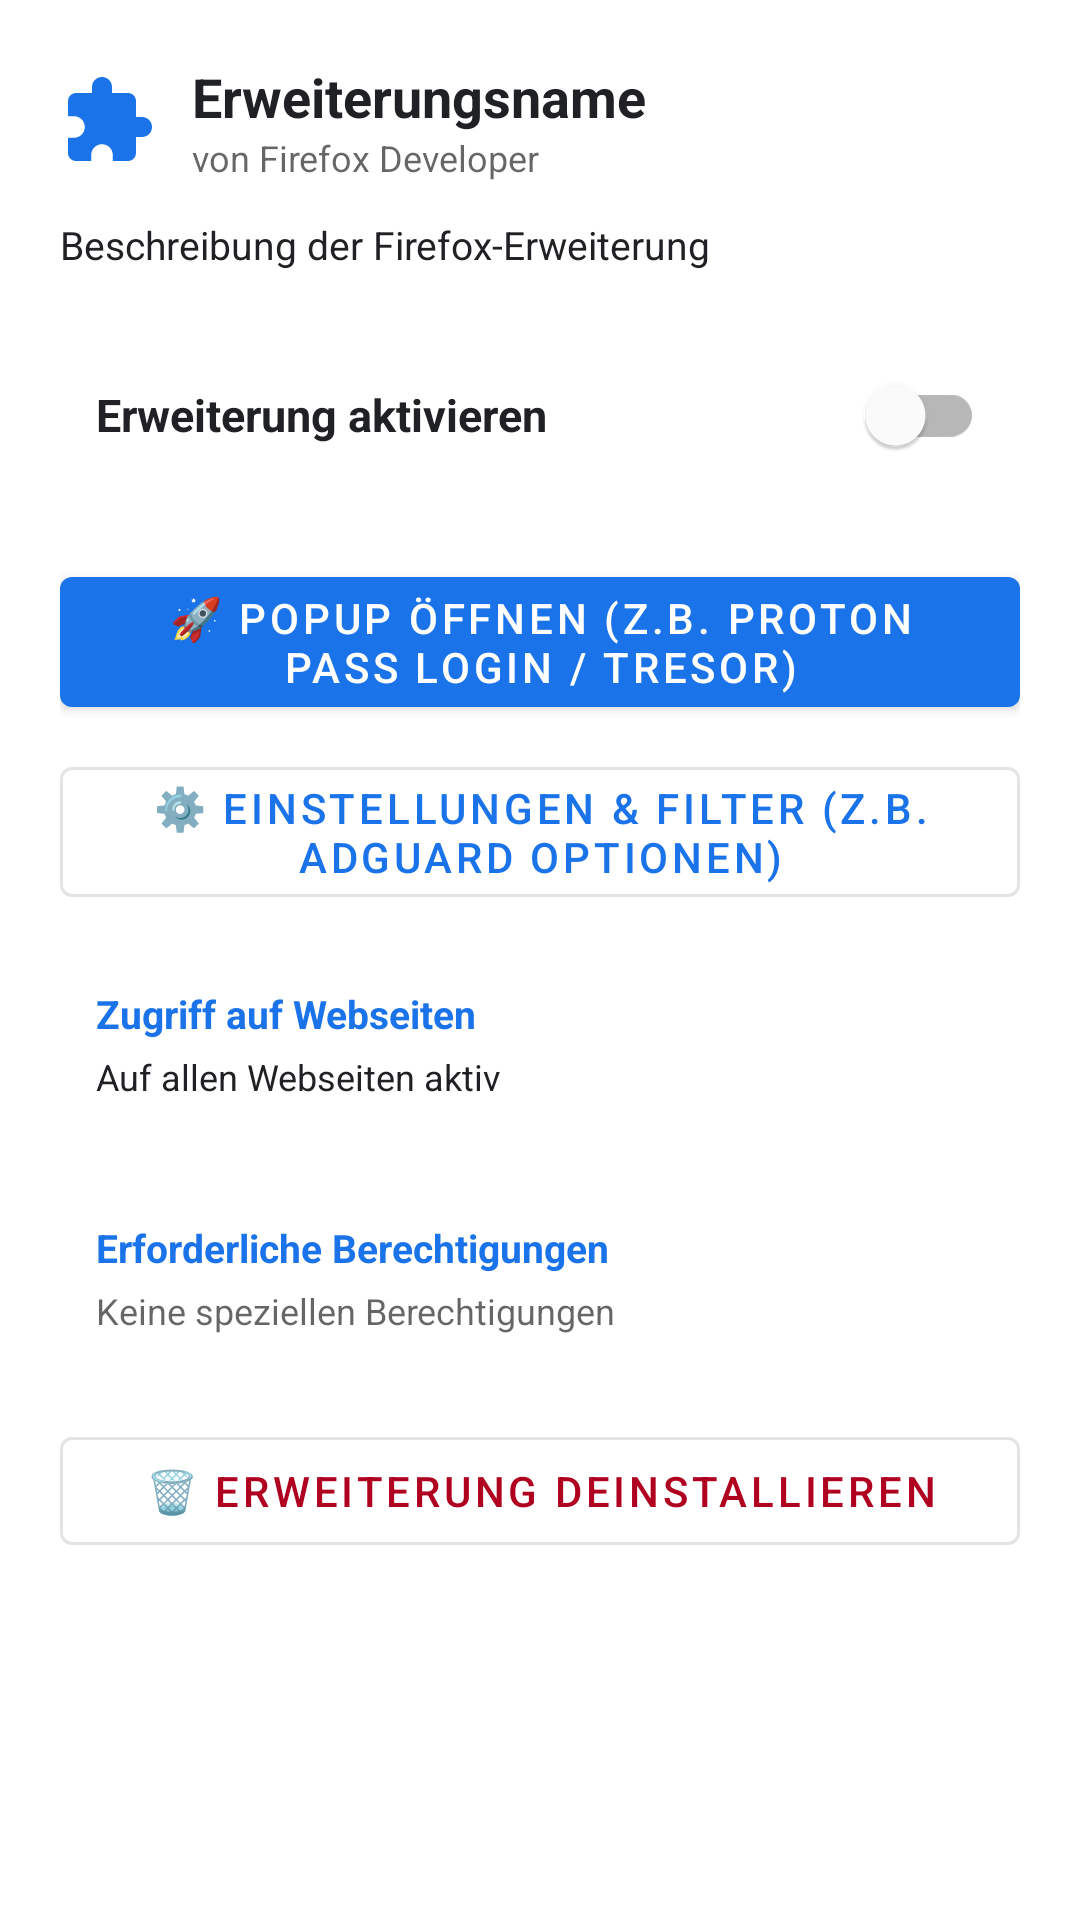

Icons on this 1080 x 1920 Android screen, each with its box as (x1, y1, x2, y2):
extension: (68, 77, 152, 161)
